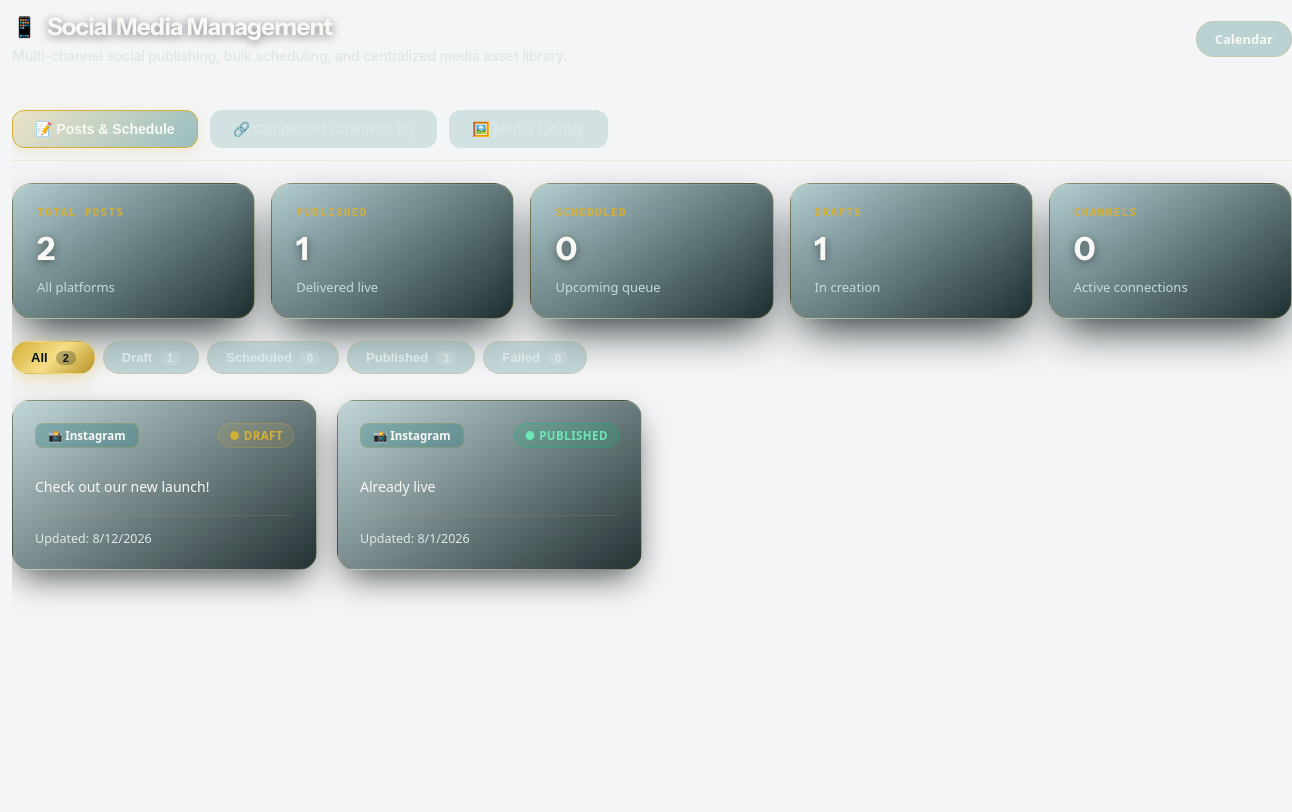
SocialPage › filters by status tab
The image size is (1292, 812).
Check: the text "Check out our new launch!" is shown, box [35,477,209,496]
Check: the text "Already live" is shown, box [360,477,435,496]
Click the tab "Published 1" at (411, 358), box [347,341,475,374]
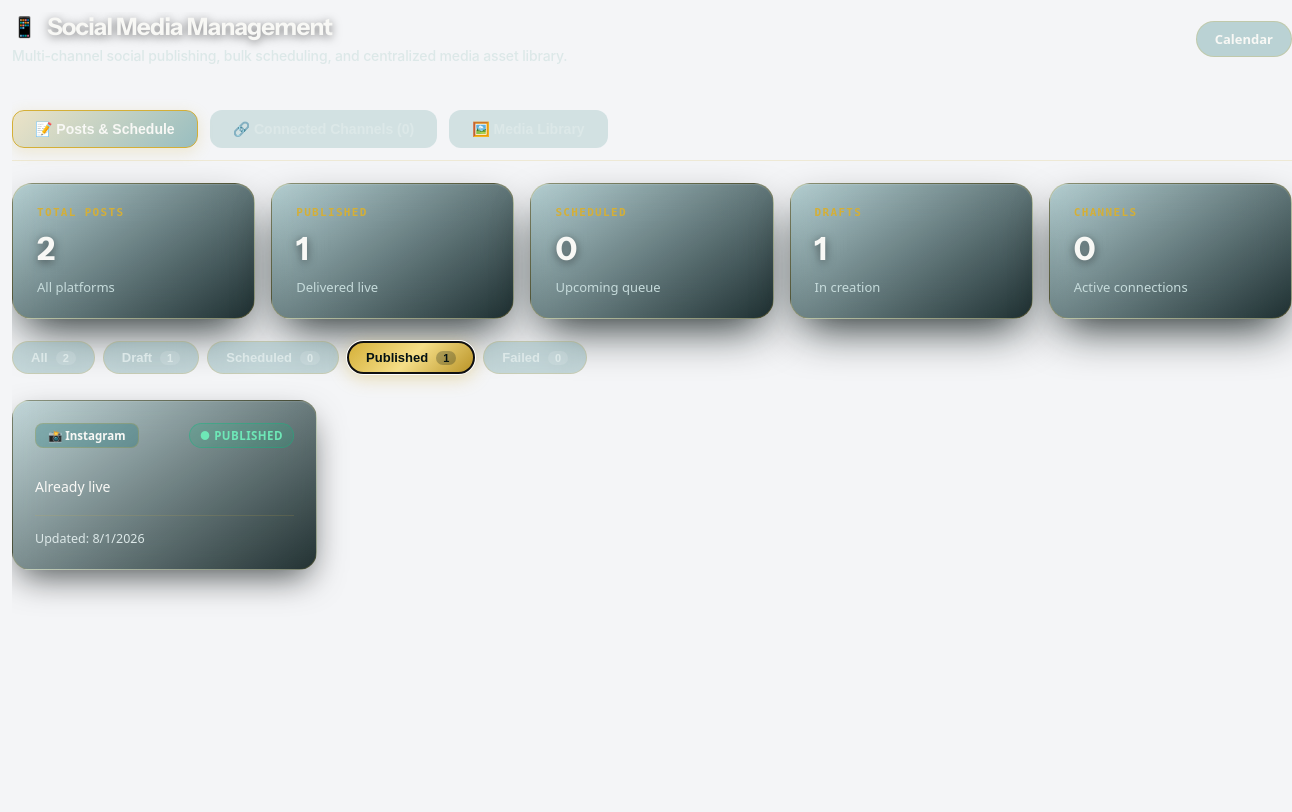
Check: the text "Already live" is shown, box [35,477,110,496]
Check: the link "Check out our new launch!" is gone
